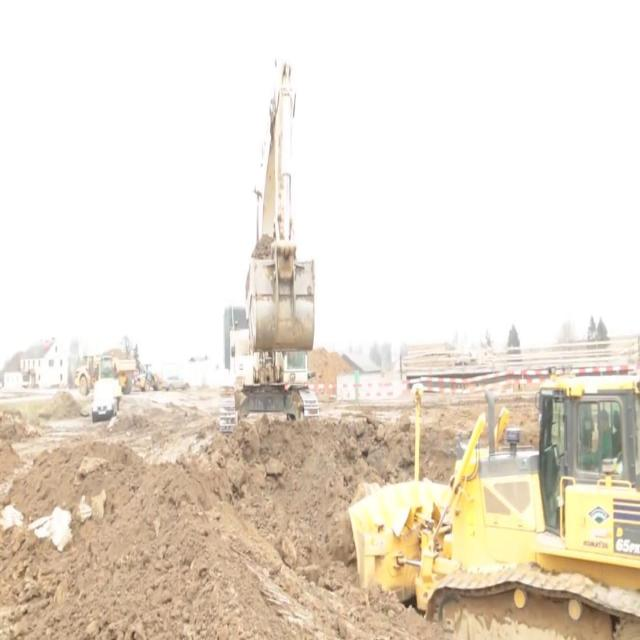buldozerpayloadergrader: (353, 364, 640, 626), (136, 363, 163, 390)
dump_truck: (74, 346, 136, 394)
excavator: (218, 58, 318, 434)
